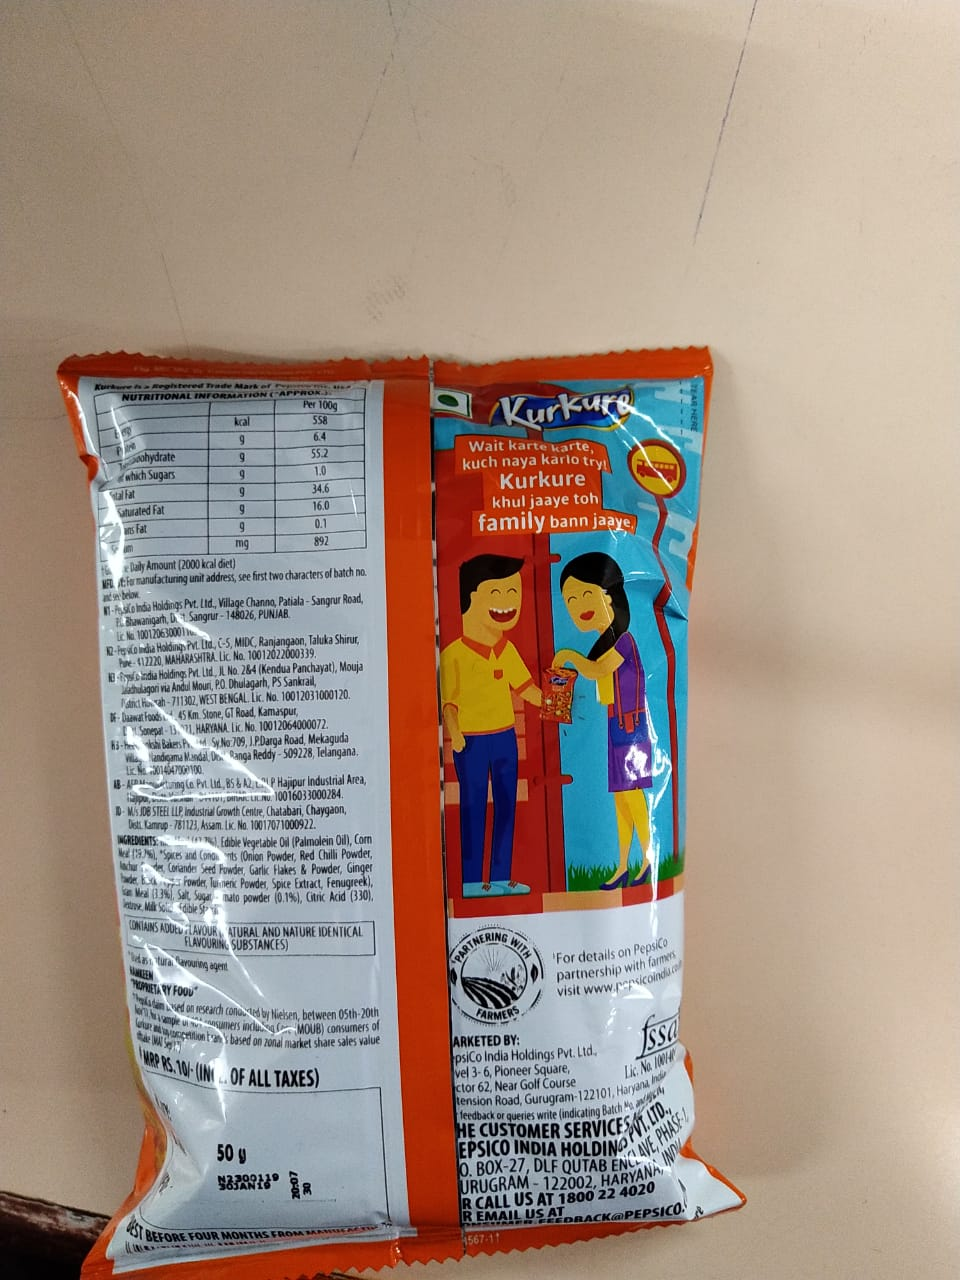kurkure: (447, 383, 661, 475)
plastic: (78, 326, 731, 1278)
wrapper: (88, 344, 710, 1268)
